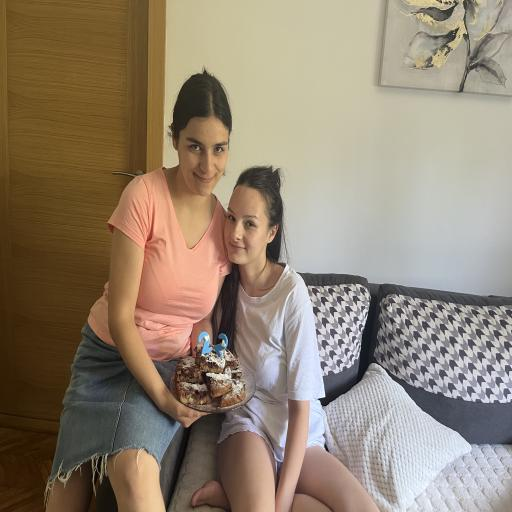marija: (224, 183, 265, 262)
